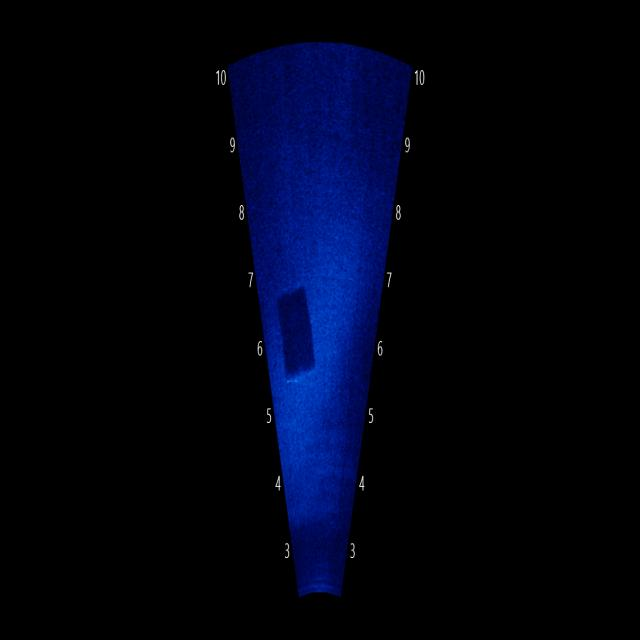square: (274, 269, 323, 396)
